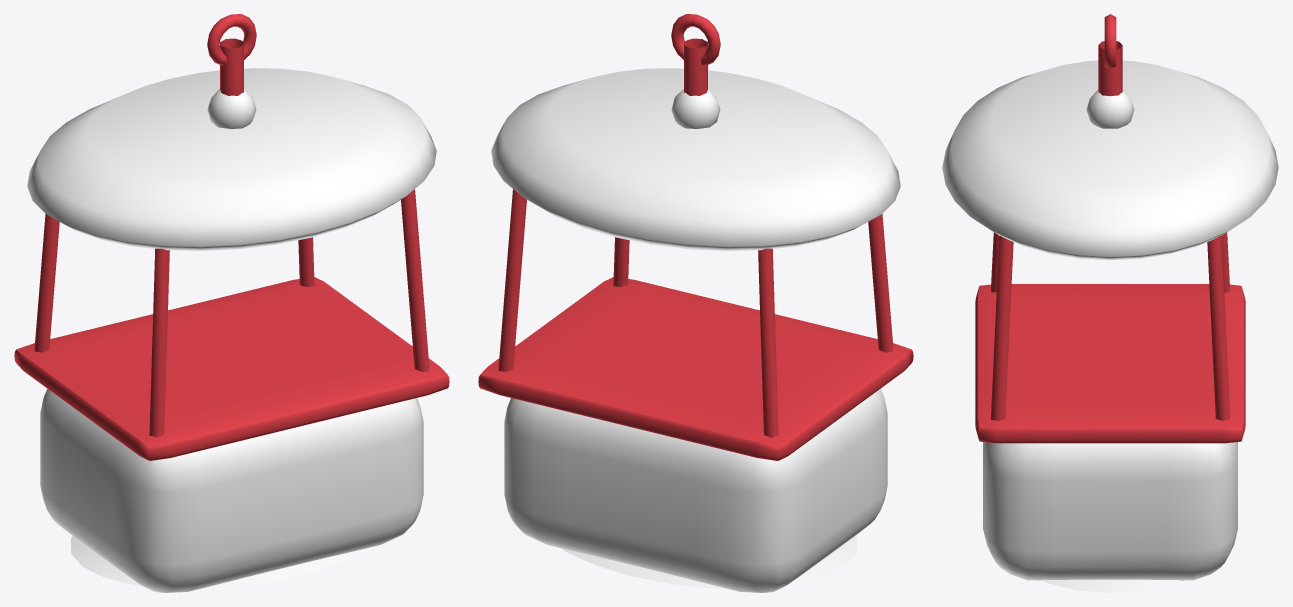
Rendered from LobbyFerrisCabin.obj.
The picture shows the model from 3 angles, left to right: view 1: azimuth 30°, elevation 25°; view 2: azimuth 150°, elevation 25°; view 3: azimuth 270°, elevation 25°; orthographic projection. The views are drawn at different scales.
Visible parts, largest first — view 1: Roof, Frame, Body; view 2: Roof, Frame, Body; view 3: Roof, Frame, Body.
Part boxes in pixels (x1,y1,x2,y2): Roof: [27, 68, 436, 250]; Frame: [14, 14, 449, 460]; Body: [40, 389, 423, 592]; Roof: [491, 68, 900, 250]; Frame: [478, 14, 913, 460]; Body: [504, 389, 887, 592]; Roof: [942, 60, 1278, 260]; Frame: [975, 14, 1245, 443]; Body: [983, 442, 1237, 592].
Size of the model in its own units: 5.6 by 7.57 by 4.48.
